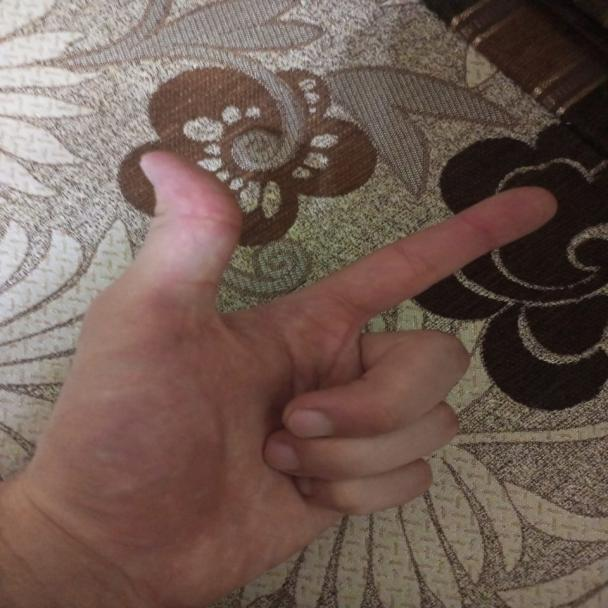five: (32, 142, 575, 522)
